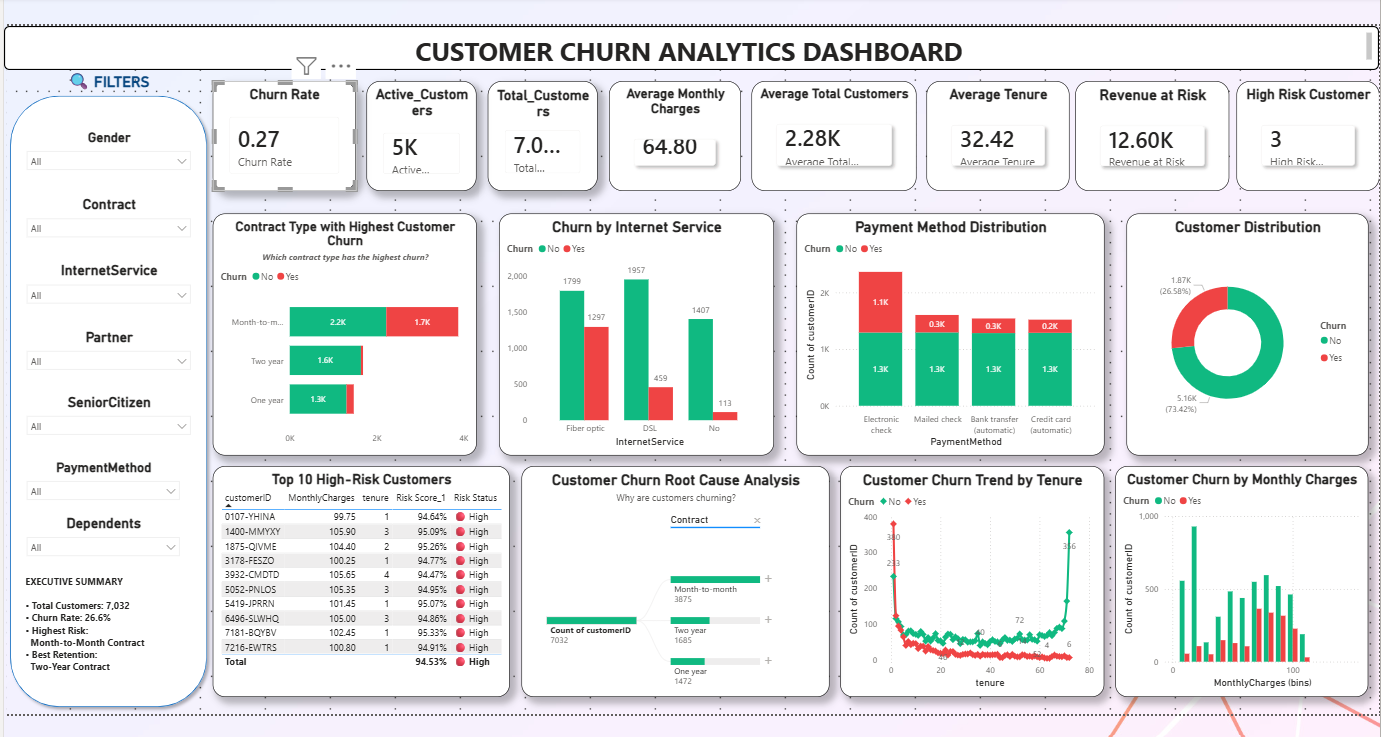

The page's visual inventory and layout, read from the dashboard file:
{"tool":"powerbi","page":{"name":"Executive Overview","canvas":[2000,1090],"ordinal":0},"visuals":[{"type":"cardVisual","title":"💰 Total Customers","fields":{"Data":["CustomerChurn.Total Customers"]},"box":[704,80,160,176],"z":0},{"type":"textbox","title":"CUSTOMER CHURN ANALYTICS DASHBOARD","box":[0,0,2000,64],"z":1000},{"type":"cardVisual","title":"👥 Active Customers","fields":{"Data":["CustomerChurn.Active Customers"]},"box":[528,80,160,176],"z":2000},{"type":"cardVisual","title":"📉 Churn Rate","fields":{"Data":["CustomerChurn.Churn Rate"]},"box":[304,80,208,176],"z":3000},{"type":"cardVisual","title":"Average Monthly Charges","fields":{"Data":["CustomerChurn.Average Monthly Charges"]},"box":[880,80,192,176],"z":4000},{"type":"cardVisual","title":"Avg Total Charges","fields":{"Data":["CustomerChurn.Average Total Charges"]},"box":[1088,80,240,176],"z":5000},{"type":"cardVisual","title":"📅 Average Tenure","fields":{"Data":["CustomerChurn.Average Tenure"]},"box":[1344,80,208,176],"z":6000},{"type":"cardVisual","title":"⚠ High-Risk Customers","fields":{"Data":["CustomerChurn.High Risk Customers"]},"box":[1792,80,208,176],"z":7000},{"type":"cardVisual","title":"Revenue at Risk ($)","fields":{"Data":["CustomerChurn.Revenue at Risk"]},"box":[1552,80,224,176],"z":8000},{"type":"donutChart","title":"Customer Churn Distribution","fields":{"Category":["CustomerChurn.Churn"],"Y":["CountNonNull(CustomerChurn.customerID)"]},"box":[1632,272,352,352],"z":9000},{"type":"barChart","title":"Contract Type with Highest Customer Churn","fields":{"Category":["CustomerChurn.Contract"],"Y":["CountNonNull(CustomerChurn.customerID)"],"Series":["CustomerChurn.Churn"]},"box":[304,272,384,352],"z":10000},{"type":"clusteredColumnChart","title":"Churn by Internet Service","fields":{"Category":["CustomerChurn.InternetService"],"Y":["CountNonNull(CustomerChurn.customerID)"],"Series":["CustomerChurn.Churn"]},"box":[720,272,400,352],"z":11000},{"type":"columnChart","title":"Payment Method Distribution","fields":{"Category":["CustomerChurn.PaymentMethod"],"Y":["CountNonNull(CustomerChurn.customerID)"],"Series":["CustomerChurn.Churn"]},"box":[1152,272,448,352],"z":12000},{"type":"lineChart","title":"Customer Churn Trend by Tenure","fields":{"Y":["CountNonNull(CustomerChurn.customerID)"],"Series":["CustomerChurn.Churn"],"Category":["CustomerChurn.tenure"]},"box":[1216,640,384,336],"z":13000},{"type":"clusteredColumnChart","title":"Customer Churn by Monthly Charges","fields":{"Series":["CustomerChurn.Churn"],"Y":["CountNonNull(CustomerChurn.customerID)"],"Category":["CustomerChurn.MonthlyCharges (bins)"]},"box":[1616,640,368,336],"z":14000},{"type":"shape","title":"🔍 FILTERS","box":[0,64,304,936],"z":15000},{"type":"slicer","title":"Gender","fields":{"Values":["CustomerChurn.gender"]},"box":[16,144,272,80],"z":16000},{"type":"slicer","title":"SeniorCitizen","fields":{"Values":["CustomerChurn.SeniorCitizen"]},"box":[16,528,272,80],"z":17000},{"type":"slicer","title":"Partner","fields":{"Values":["CustomerChurn.Partner"]},"box":[16,432,272,80],"z":18000},{"type":"slicer","title":"Dependents","fields":{"Values":["CustomerChurn.Dependents"]},"box":[16,704,256,80],"z":19000},{"type":"slicer","title":"Contract","fields":{"Values":["CustomerChurn.Contract"]},"box":[16,240,272,80],"z":20000},{"type":"slicer","title":"InternetService","fields":{"Values":["CustomerChurn.InternetService"]},"box":[16,336,272,80],"z":21000},{"type":"slicer","title":"PaymentMethod","fields":{"Values":["CustomerChurn.PaymentMethod"]},"box":[16,624,256,80],"z":22000},{"type":"textbox","box":[16,784,256,176],"z":23000},{"type":"tableEx","title":"Top 10 High-Risk Customers","fields":{"Values":["CustomerChurn.customerID","CustomerChurn.MonthlyCharges","CustomerChurn.tenure","CustomerChurn.Risk Score_1","CustomerChurn.Risk Status"]},"box":[304,640,432,336],"z":24000},{"type":"decompositionTreeVisual","title":"Root Cause Analysis of Customer Churn","fields":{"Analyze":["CountNonNull(CustomerChurn.customerID)"],"ExplainBy":["CustomerChurn.Contract","CustomerChurn.InternetService","CustomerChurn.PaymentMethod","CustomerChurn.Partner","CustomerChurn.Dependents","CustomerChurn.SeniorCitizen"]},"box":[752,640,448,336],"z":25000},{"type":"textbox","title":"Source: Telco Customer Churn Dataset | Dashboard by Devam Bhati","box":[16,1008,1968,64],"z":25002}]}

Visuals, with their boxes in screenshot pixels (x1, y1, x2, y2), scaled from the page's 2000x1090 canvas onto the 1381x737 screenshot:
"💰 Total Customers" cardVisual: pyautogui.locateOnScreen(486, 54, 597, 173)
"CUSTOMER CHURN ANALYTICS DASHBOARD" textbox: pyautogui.locateOnScreen(0, 0, 1380, 43)
"👥 Active Customers" cardVisual: pyautogui.locateOnScreen(365, 54, 475, 173)
"📉 Churn Rate" cardVisual: pyautogui.locateOnScreen(210, 54, 354, 173)
"Average Monthly Charges" cardVisual: pyautogui.locateOnScreen(608, 54, 740, 173)
"Avg Total Charges" cardVisual: pyautogui.locateOnScreen(751, 54, 917, 173)
"📅 Average Tenure" cardVisual: pyautogui.locateOnScreen(928, 54, 1072, 173)
"⚠ High-Risk Customers" cardVisual: pyautogui.locateOnScreen(1237, 54, 1380, 173)
"Revenue at Risk ($)" cardVisual: pyautogui.locateOnScreen(1072, 54, 1226, 173)
"Customer Churn Distribution" donutChart: pyautogui.locateOnScreen(1127, 184, 1370, 422)
"Contract Type with Highest Customer Churn" barChart: pyautogui.locateOnScreen(210, 184, 475, 422)
"Churn by Internet Service" clusteredColumnChart: pyautogui.locateOnScreen(497, 184, 773, 422)
"Payment Method Distribution" columnChart: pyautogui.locateOnScreen(795, 184, 1105, 422)
"Customer Churn Trend by Tenure" lineChart: pyautogui.locateOnScreen(840, 433, 1105, 660)
"Customer Churn by Monthly Charges" clusteredColumnChart: pyautogui.locateOnScreen(1116, 433, 1370, 660)
"🔍 FILTERS" shape: pyautogui.locateOnScreen(0, 43, 210, 676)
"Gender" slicer: pyautogui.locateOnScreen(11, 97, 199, 151)
"SeniorCitizen" slicer: pyautogui.locateOnScreen(11, 357, 199, 411)
"Partner" slicer: pyautogui.locateOnScreen(11, 292, 199, 346)
"Dependents" slicer: pyautogui.locateOnScreen(11, 476, 188, 530)
"Contract" slicer: pyautogui.locateOnScreen(11, 162, 199, 216)
"InternetService" slicer: pyautogui.locateOnScreen(11, 227, 199, 281)
"PaymentMethod" slicer: pyautogui.locateOnScreen(11, 422, 188, 476)
textbox: pyautogui.locateOnScreen(11, 530, 188, 649)
"Top 10 High-Risk Customers" tableEx: pyautogui.locateOnScreen(210, 433, 508, 660)
"Root Cause Analysis of Customer Churn" decompositionTreeVisual: pyautogui.locateOnScreen(519, 433, 829, 660)
"Source: Telco Customer Churn Dataset | Dashboard by Devam Bhati" textbox: pyautogui.locateOnScreen(11, 682, 1370, 725)
